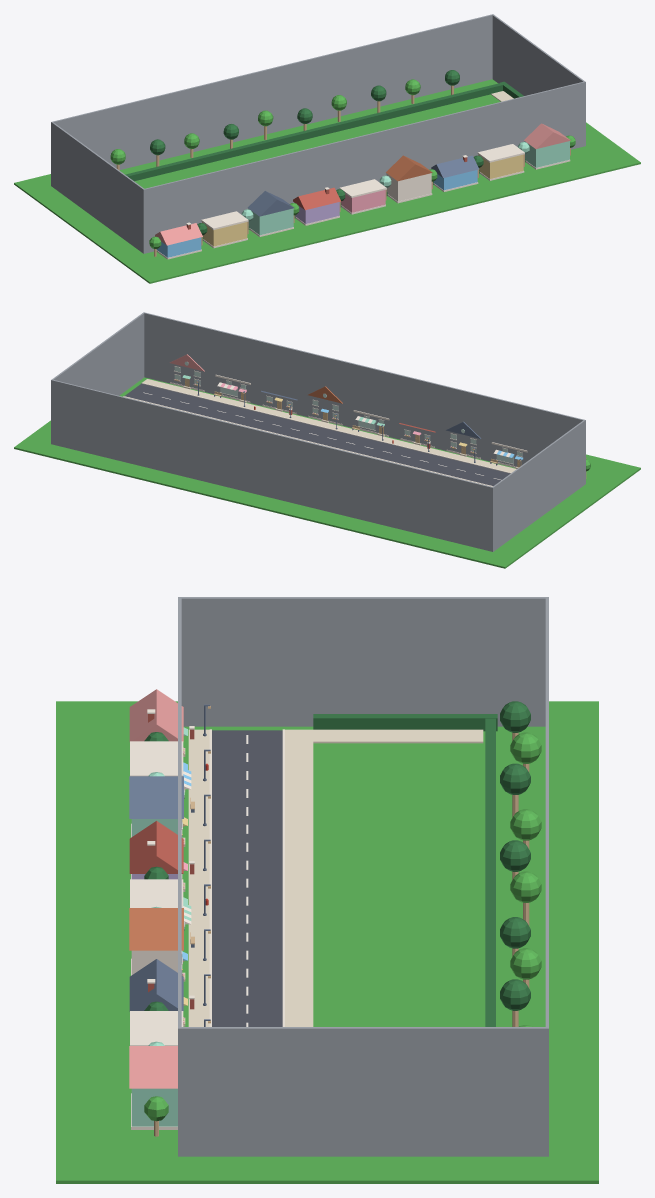
File: CleanACat_Area_Street.fbx
3 renders of one model, top to bottom at view 1: azimuth 30°, elevation 25°; view 2: azimuth 150°, elevation 25°; view 3: azimuth 270°, elevation 25°, orthographic. The views are drawn at different scales.
Parts seen in each view (by area): view 1: CleanACat_Area_Street_Barrier, CleanACat_Area_Street, CleanACat_Area_Street_Houses, CleanACat_Area_Street_Greenery, CleanACat_Area_Street_Pavement; view 2: CleanACat_Area_Street_Barrier, CleanACat_Area_Street, CleanACat_Area_Street_Houses, CleanACat_Area_Street_Pavement; view 3: CleanACat_Area_Street, CleanACat_Area_Street_Barrier, CleanACat_Area_Street_Houses, CleanACat_Area_Street_Greenery, CleanACat_Area_Street_Pavement.
Boxes of the visible parts, box(x1,y1,x2,y2) form: CleanACat_Area_Street_Barrier: box(51, 14, 585, 253); CleanACat_Area_Street: box(14, 79, 640, 283); CleanACat_Area_Street_Houses: box(155, 123, 570, 259); CleanACat_Area_Street_Greenery: box(110, 70, 523, 181); CleanACat_Area_Street_Pavement: box(149, 135, 575, 256); CleanACat_Area_Street_Barrier: box(51, 312, 585, 551); CleanACat_Area_Street: box(14, 377, 640, 568); CleanACat_Area_Street_Houses: box(169, 354, 586, 468); CleanACat_Area_Street_Pavement: box(196, 380, 590, 478); CleanACat_Area_Street: box(56, 701, 598, 1183); CleanACat_Area_Street_Barrier: box(178, 597, 548, 1156); CleanACat_Area_Street_Houses: box(129, 689, 191, 1129); CleanACat_Area_Street_Greenery: box(313, 701, 541, 1026); CleanACat_Area_Street_Pavement: box(144, 704, 210, 1136).
Bounding box in the file's own units: 320 × 40.93 × 153.
Materials: 1 (1 with a texture image).
